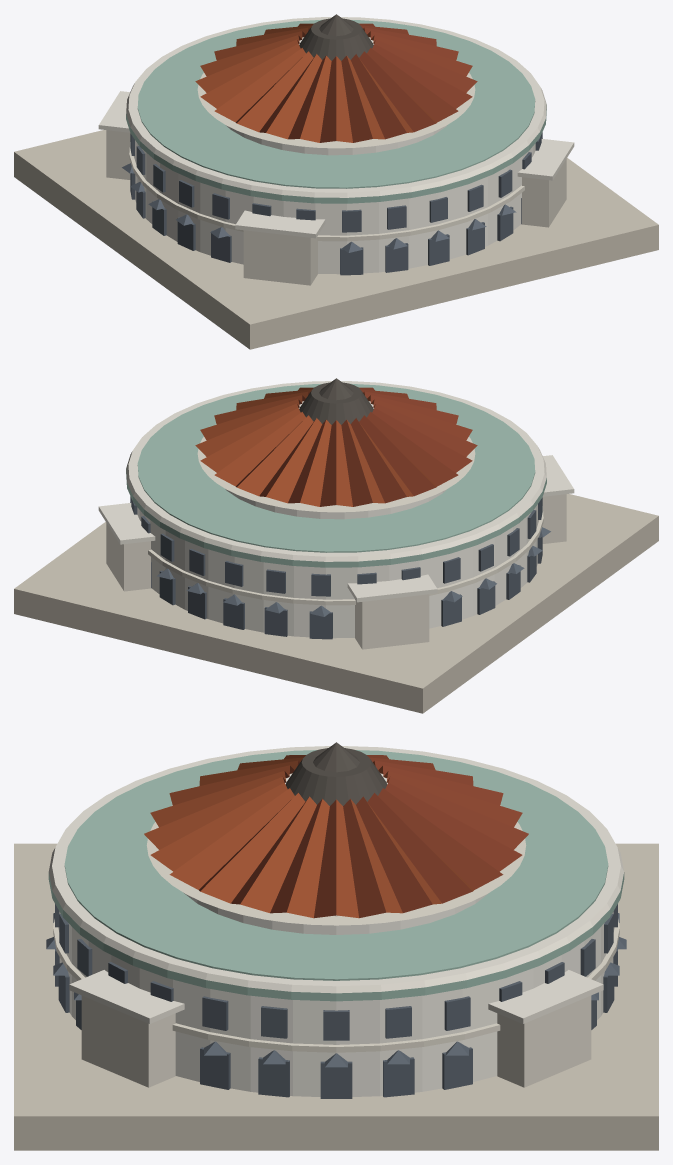
Rendered from chodam.glb.
3 views of the same model, one above another, from view 1: azimuth 30°, elevation 25°; view 2: azimuth 150°, elevation 25°; view 3: azimuth 270°, elevation 25° (orthographic). The views are drawn at different scales.
Parts seen in each view (by area): view 1: chodam; view 2: chodam; view 3: chodam.
Part boxes in pixels (x1,y1,x2,y2): chodam: (14, 14, 658, 349); chodam: (14, 378, 658, 713); chodam: (14, 742, 658, 1150).
Bounding box in the file's own units: 10.2 × 4.75 × 10.2.
